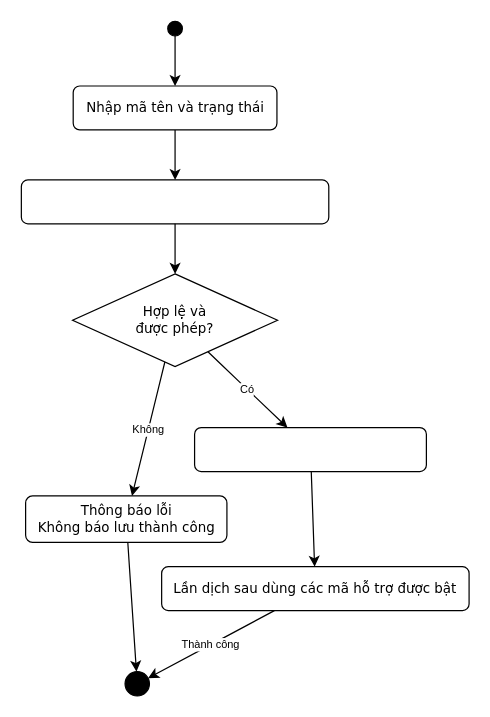
Image size: 490x717. Some labels were removed from this diagram. Each missing label, with the centre of its shape:
"INSERT hoặc UPDATE NgonNgu" belongs at point (309, 449).
"Kiểm tra Admin mã hợp lệ và không trùng" belongs at point (174, 201).
